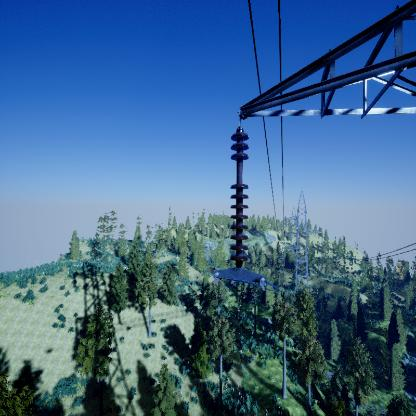insulator: (228, 132, 251, 266)
tower: (280, 191, 323, 289)
